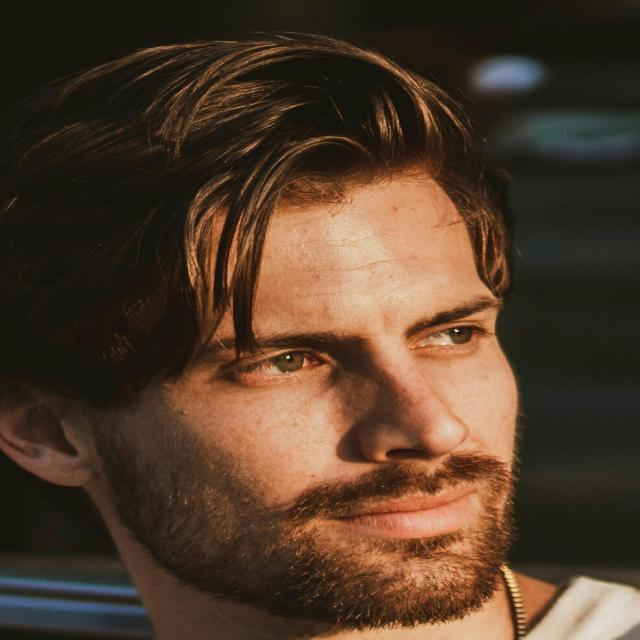front: (175, 267, 568, 597)
